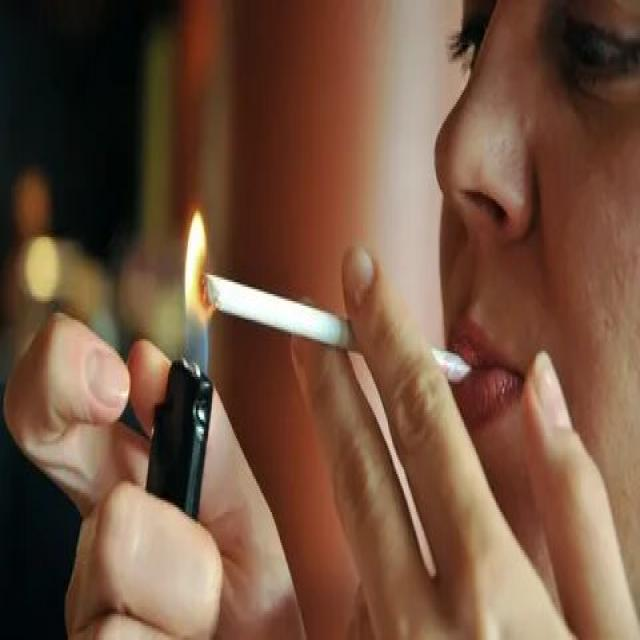smoke: (186, 261, 478, 410)
